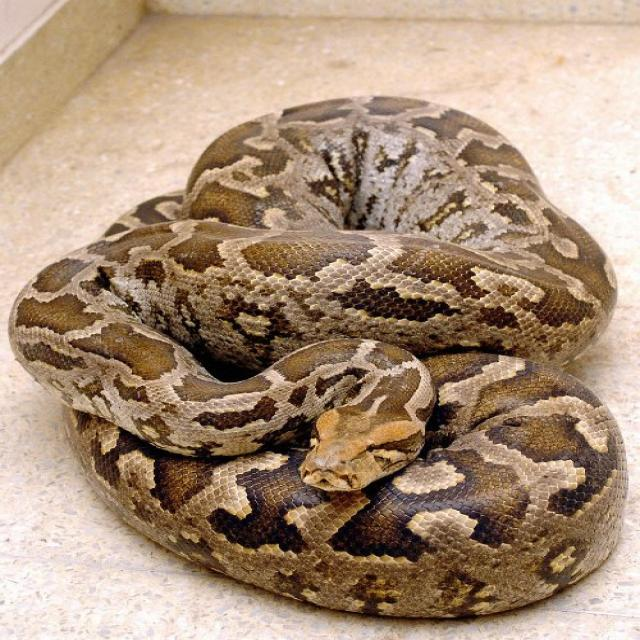Snake: (6, 92, 628, 620)
